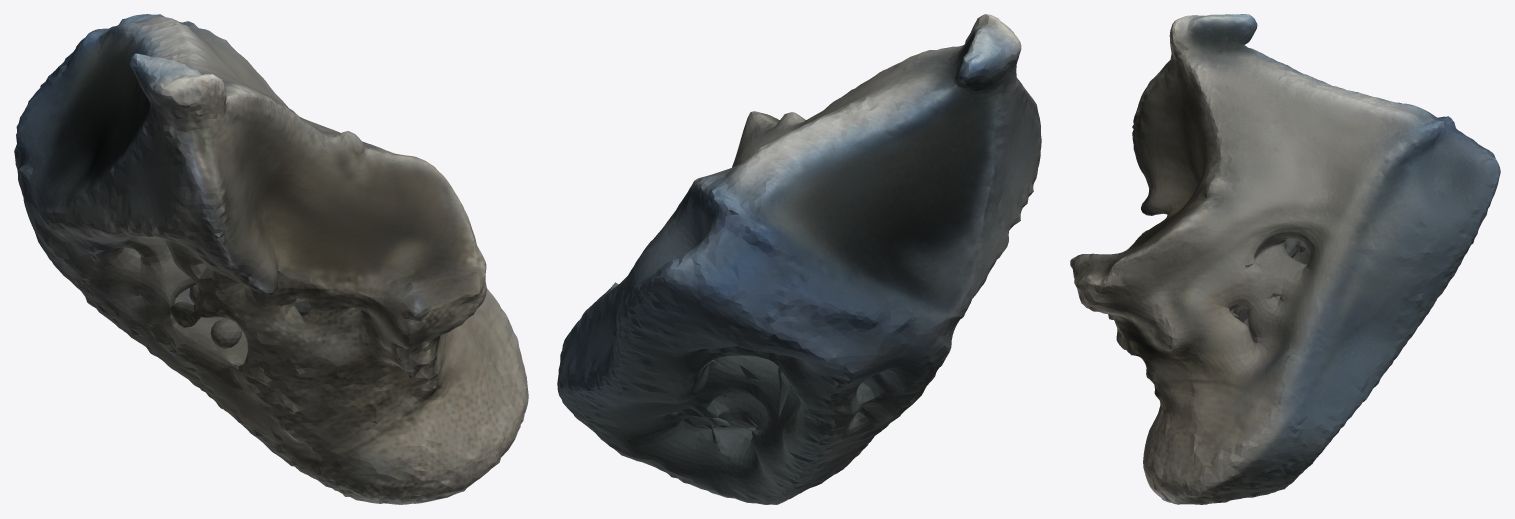
Rendered from IMG_SEG_14.glb.
3 views of the same model, side by side, from view 1: azimuth 30°, elevation 25°; view 2: azimuth 150°, elevation 25°; view 3: azimuth 270°, elevation 25° (orthographic). The views are drawn at different scales.
Bounding box in the file's own units: 0.8268 × 0.921 × 0.9169.
Materials: 1 (1 with a texture image).
